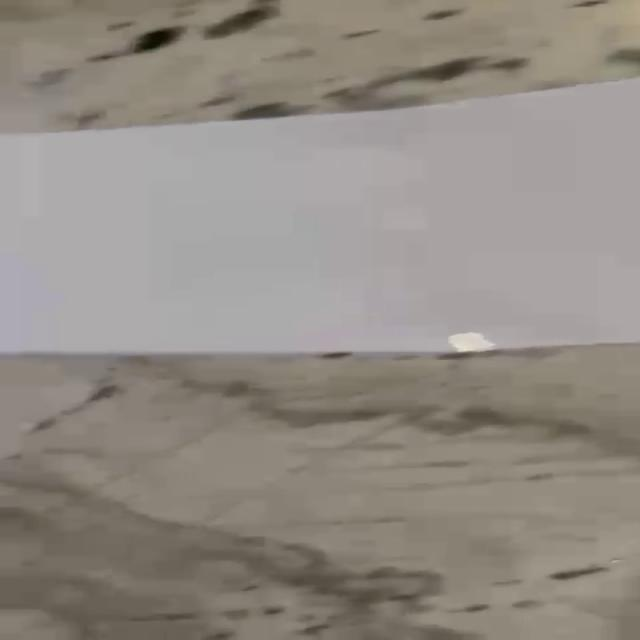road: (0, 77, 640, 356)
